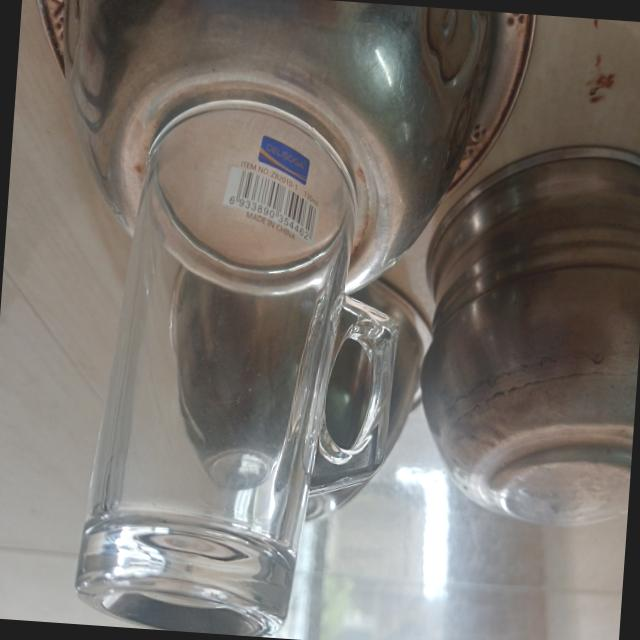glass-VX4N: (67, 86, 422, 640)
